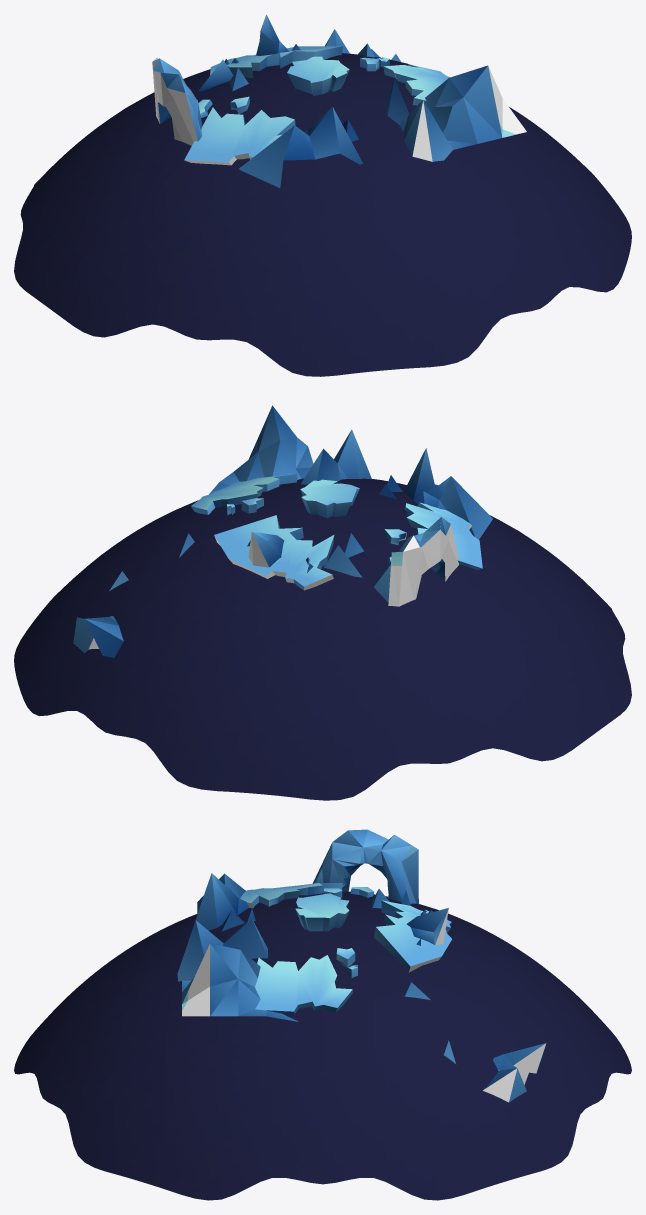
The model's file is 1_lvl.fbx.
3 renders of one model, top to bottom at view 1: azimuth 30°, elevation 25°; view 2: azimuth 150°, elevation 25°; view 3: azimuth 270°, elevation 25°, orthographic.
Visible parts, largest first — view 1: Icosphere, SurfPatch, Cylinder.003, SurfPatch.001, Cylinder.004, Cylinder, Cylinder.005, Cylinder.002, Cone.006; view 2: Icosphere, SurfPatch, Cylinder.005, Cylinder.004, SurfPatch.001, Cylinder.003, Cylinder, Cylinder.002, SurfPatch.002, Cone.006, Cone.002; view 3: Icosphere, SurfPatch, Cylinder.004, Cylinder.002, Cylinder.005, SurfPatch.002, SurfPatch.001, Cylinder, Cylinder.003, Cone.006.
Boxes of the visible parts, box(x1,y1,x2,y2) form: Icosphere: box(14, 53, 631, 376); SurfPatch: box(386, 65, 526, 161); Cylinder.003: box(184, 107, 295, 165); SurfPatch.001: box(239, 107, 362, 187); Cylinder.004: box(152, 57, 202, 145); Cylinder: box(287, 56, 349, 95); Cylinder.005: box(210, 46, 342, 78); Cylinder.002: box(383, 64, 449, 105); Cone.006: box(256, 14, 289, 55); Icosphere: box(14, 478, 631, 800); SurfPatch: box(209, 405, 371, 494); Cylinder.005: box(214, 515, 334, 590); Cylinder.004: box(374, 517, 459, 606); SurfPatch.001: box(404, 448, 492, 539); Cylinder.003: box(405, 502, 482, 570); Cylinder: box(300, 479, 359, 518); Cylinder.002: box(191, 474, 297, 514); SurfPatch.002: box(73, 616, 123, 657); Cone.006: box(248, 531, 284, 567); Cone.002: box(324, 545, 362, 577); Icosphere: box(14, 891, 631, 1200); SurfPatch: box(177, 918, 298, 1021); Cylinder.004: box(312, 829, 418, 904); Cylinder.002: box(255, 955, 352, 1014); Cylinder.005: box(373, 900, 451, 972); SurfPatch.002: box(483, 1043, 546, 1102); SurfPatch.001: box(196, 873, 248, 930); Cylinder: box(295, 893, 349, 931); Cylinder.003: box(240, 883, 342, 908); Cone.006: box(406, 908, 448, 945).
Bounding box in the file's own units: 21.43 × 7.46 × 21.99.
